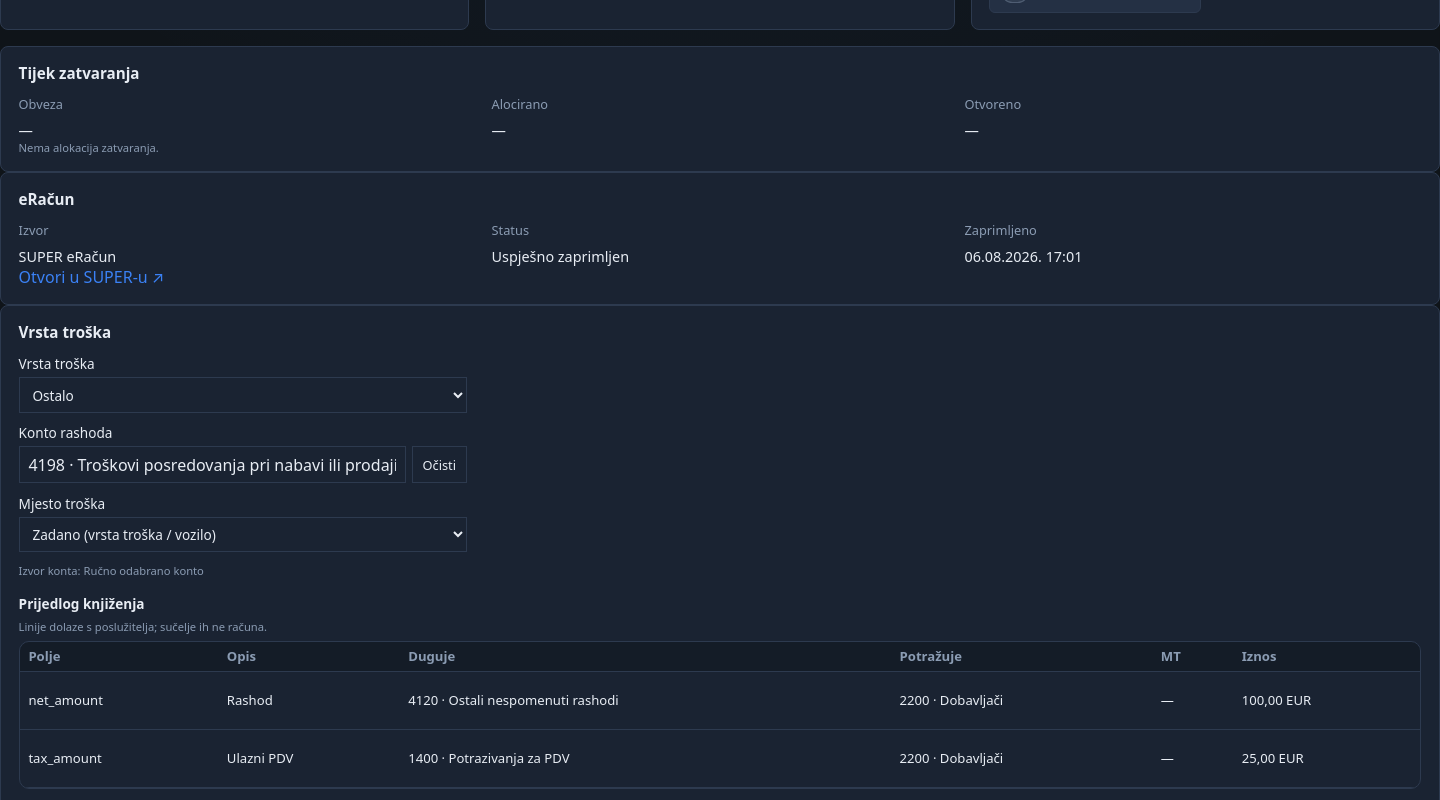
Test: IncomingExpenseDetail account picker › clears a previous override when a later preview is a derived source
(page scrolled)
Expected: the dropdown labelled "Konto rashoda" holds "4198 · Troškovi posredovanja pri nabavi ili prodaji dobara i usluga", [19,446,406,483]
Select "Telekomunikacije" in the dropdown labelled "Vrsta troška" at (243, 395), box [19,377,467,413]
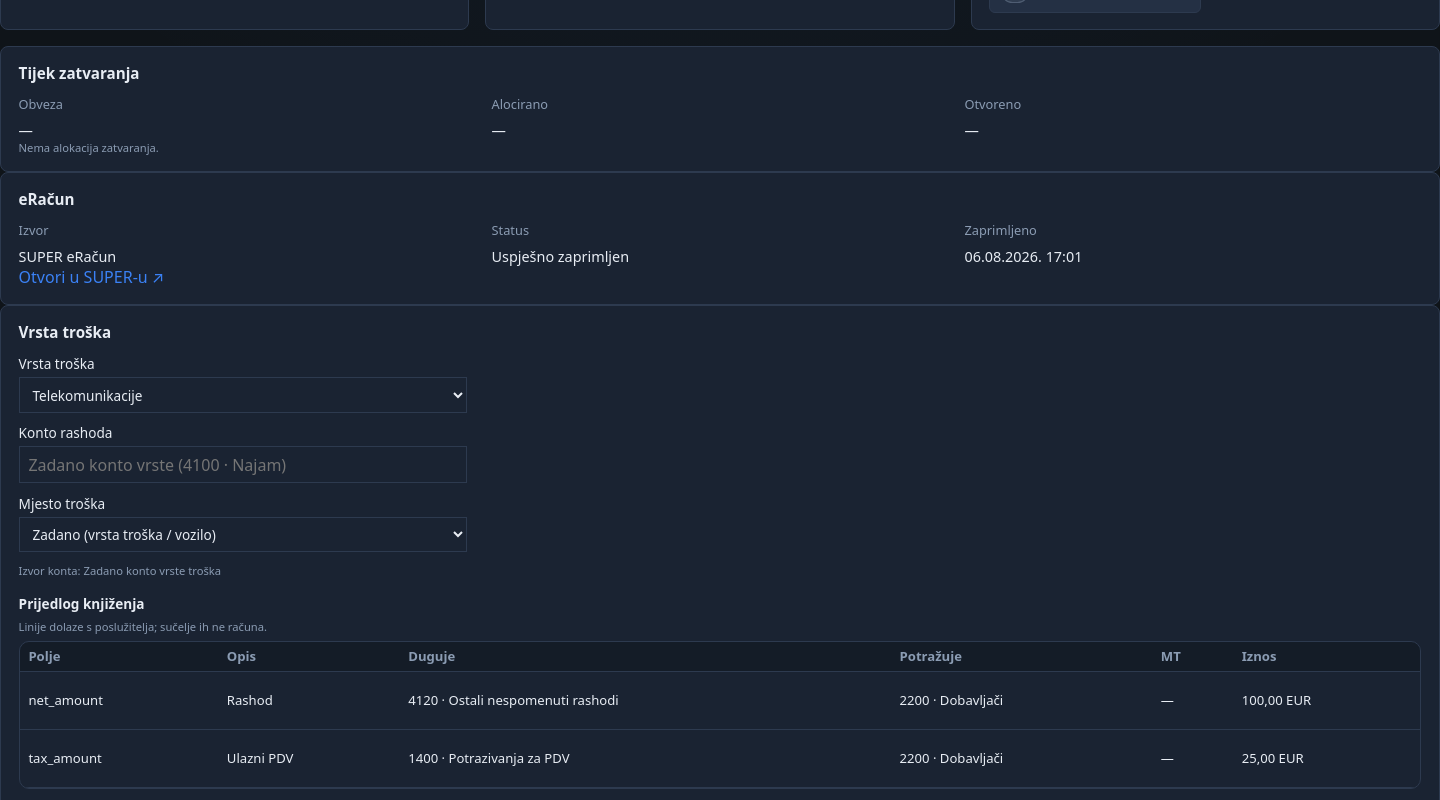
Expected: the dropdown labelled "Konto rashoda" is empty, [19,446,467,483]
Expected: the dropdown labelled "Konto rashoda" does not hold "4198 · Troškovi posredovanja pri nabavi ili prodaji dobara i usluga", [19,446,467,483]
